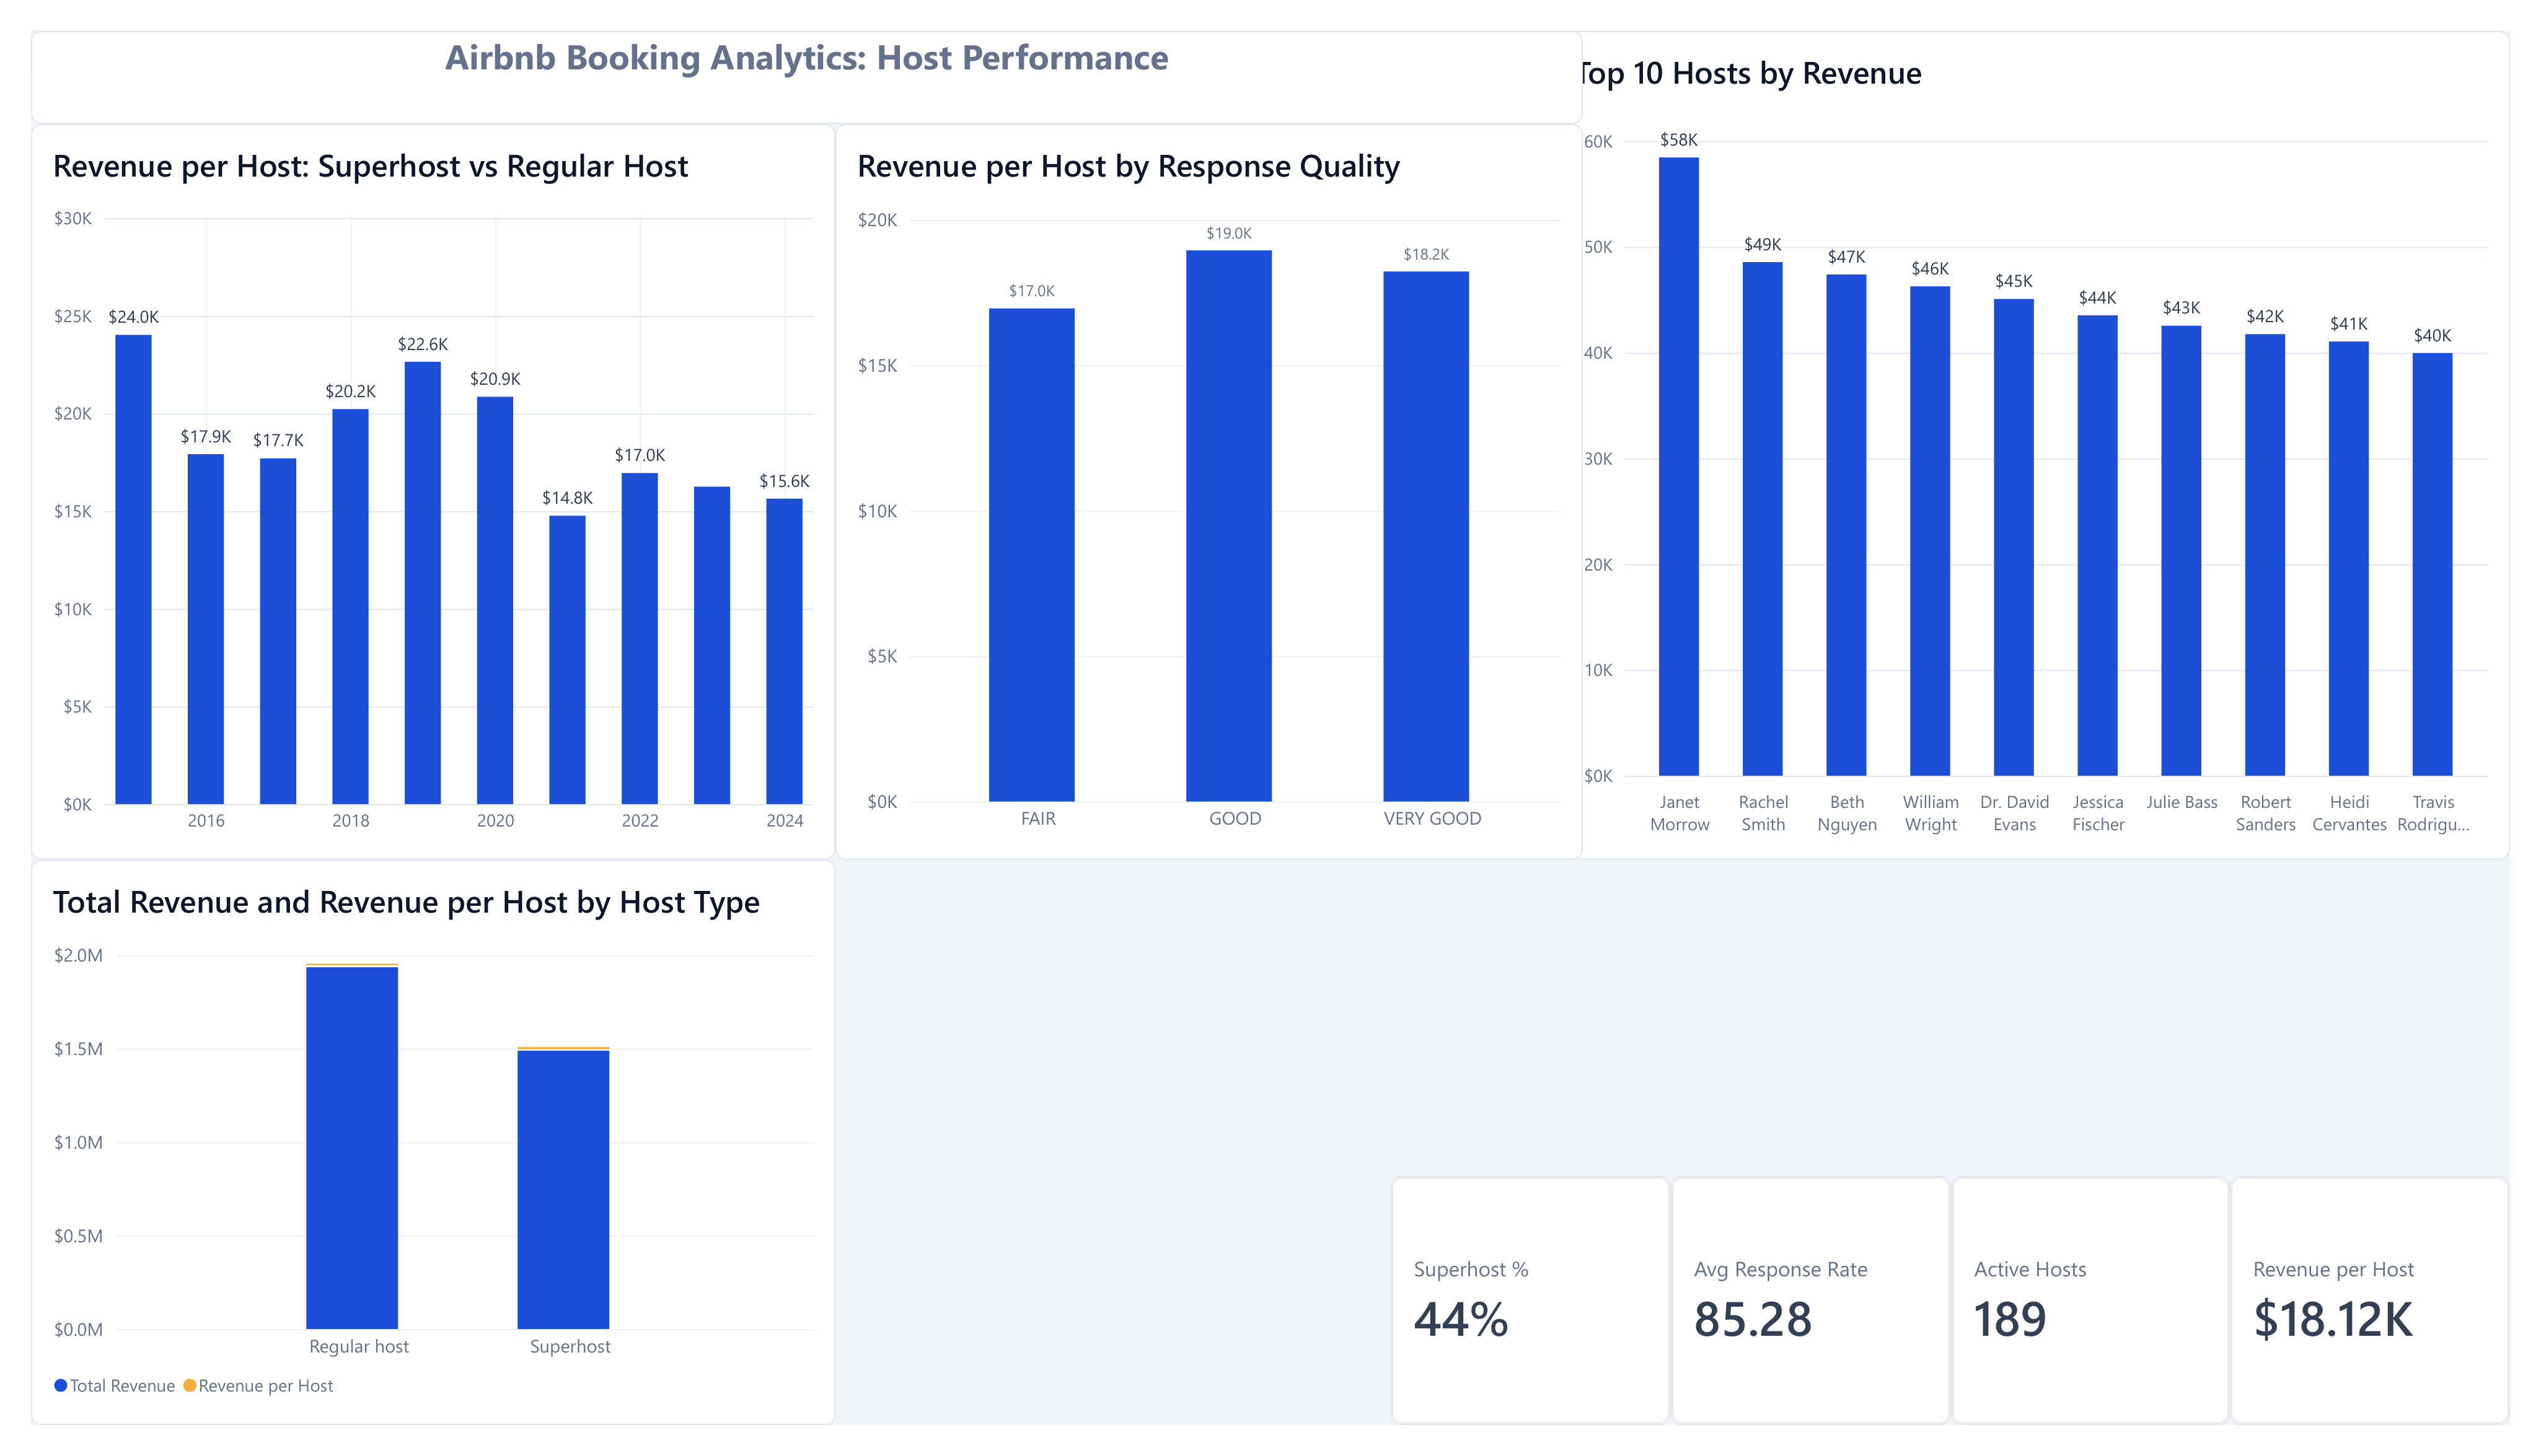

Layout of this report page (visuals, bound fields, positions):
{"tool":"powerbi","page":{"name":"Hosts","canvas":[1920,1080],"ordinal":2},"visuals":[{"type":"clusteredColumnChart","title":"Top 10 Hosts by Revenue","fields":{"Category":["DIM_HOST.HOST_NAME"],"Y":["_Measures.Total Revenue"]},"box":[1178.3,0,741.7,641.7],"z":0},{"type":"columnChart","fields":{"Y":["_Measures.Total Revenue","_Measures.Revenue per Host"],"Category":["DIM_HOST.Host Type"]},"box":[0,641.7,623.3,438.3],"z":1000},{"type":"columnChart","title":"Revenue per Host by Response Quality","fields":{"Y":["_Measures.Revenue per Host"],"Category":["DIM_HOST.RESPONSE_RATE_QUALITY"]},"box":[623.3,71.7,578.3,570],"z":2000},{"type":"cardVisual","fields":{"Data":["_Measures.Active Hosts"]},"box":[1486.7,886.7,216.7,193.3],"z":3000},{"type":"clusteredColumnChart","title":"Revenue per Host: Superhost vs Regular Host","fields":{"Category":["DIM_HOST.HOST_SINCE.Variation.Date Hierarchy.Year"],"Y":["_Measures.Revenue per Host"]},"box":[0,71.7,623.3,570],"z":4000},{"type":"cardVisual","fields":{"Data":["_Measures.Avg Response Rate"]},"box":[1270,886.7,216.7,193.3],"z":5000},{"type":"cardVisual","fields":{"Data":["_Measures.Revenue per Host"]},"box":[1703.3,886.7,216.7,193.3],"z":6000},{"type":"textbox","box":[0,0,1201.7,71.7],"z":7000},{"type":"cardVisual","fields":{"Data":["_Measures.Superhost %"]},"box":[1053.3,886.7,216.7,193.3],"z":8000}]}

Visuals, with their boxes on the page's 1920x1080 design canvas (x1, y1, x2, y2). These are canvas units, not pixel positions in the 2541x1456 screenshot, which may show the page scaled, cropped or inside an application window:
"Top 10 Hosts by Revenue" clusteredColumnChart: [1178, 0, 1920, 642]
columnChart - _Measures.Total Revenue x _Measures.Revenue per Host: [0, 642, 623, 1080]
"Revenue per Host by Response Quality" columnChart: [623, 72, 1202, 642]
cardVisual - _Measures.Active Hosts: [1487, 887, 1703, 1080]
"Revenue per Host: Superhost vs Regular Host" clusteredColumnChart: [0, 72, 623, 642]
cardVisual - _Measures.Avg Response Rate: [1270, 887, 1487, 1080]
cardVisual - _Measures.Revenue per Host: [1703, 887, 1920, 1080]
textbox: [0, 0, 1202, 72]
cardVisual - _Measures.Superhost %: [1053, 887, 1270, 1080]
